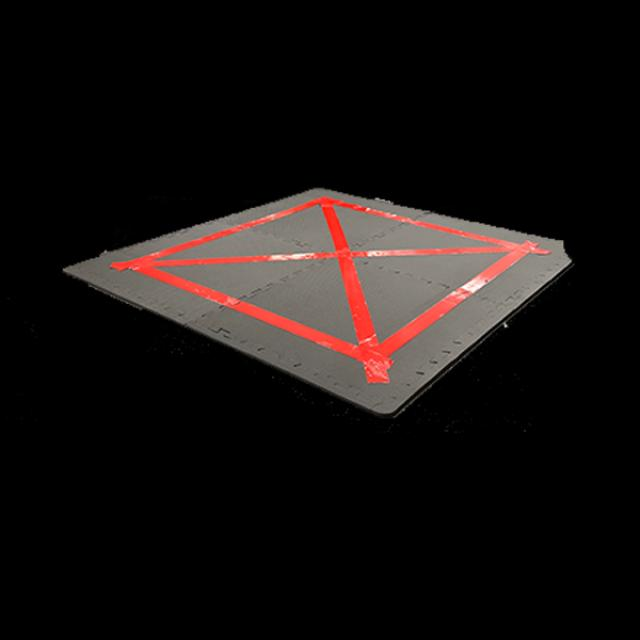landingPads: (63, 190, 573, 420)
